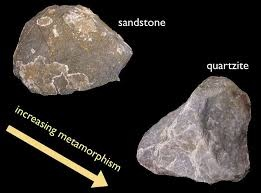obstacle: (137, 76, 250, 183), (13, 5, 132, 94)
